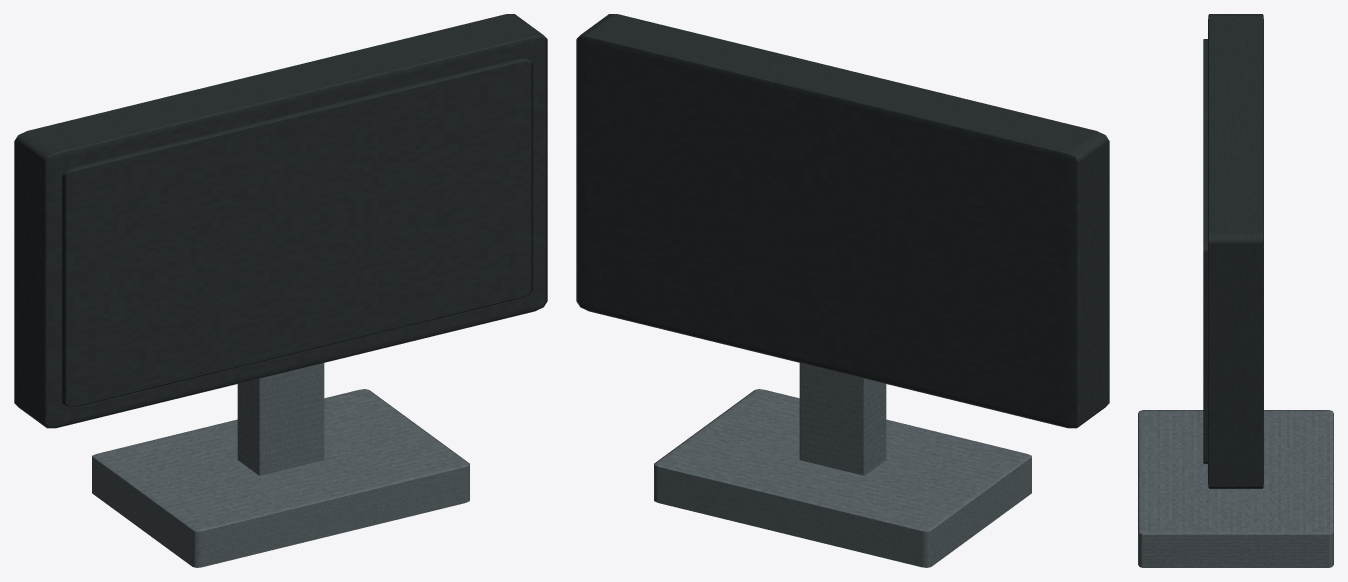
File: monitor.glb
The picture shows the model from 3 angles, left to right: view 1: azimuth 30°, elevation 25°; view 2: azimuth 150°, elevation 25°; view 3: azimuth 270°, elevation 25°; orthographic projection. The views are drawn at different scales.
Visible parts, largest first — view 1: screen, bezel, foot, neck; view 2: bezel, foot, neck; view 3: bezel, foot, screen.
Part boxes in pixels (x1=…): screen: x1=62, y1=58, x2=532, y2=407; bezel: x1=14, y1=14, x2=547, y2=428; foot: x1=92, y1=389, x2=469, y2=567; neck: x1=237, y1=363, x2=324, y2=475; bezel: x1=576, y1=14, x2=1109, y2=428; foot: x1=654, y1=389, x2=1031, y2=567; neck: x1=799, y1=363, x2=886, y2=475; bezel: x1=1208, y1=14, x2=1263, y2=488; foot: x1=1138, y1=410, x2=1333, y2=567; screen: x1=1203, y1=39, x2=1207, y2=463.
Bounding box in the file's own units: 0.29 × 0.2277 × 0.1056.
Materials: 2 (2 with a texture image).
